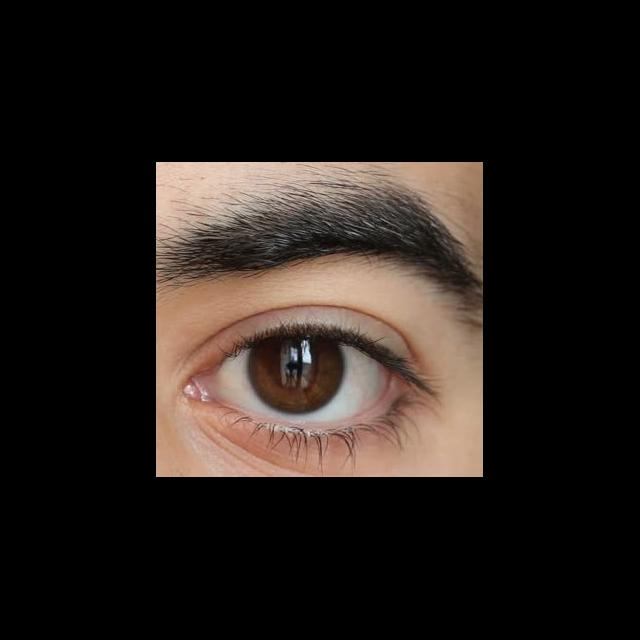eye: (206, 328, 393, 427)
iris: (247, 333, 346, 415)
